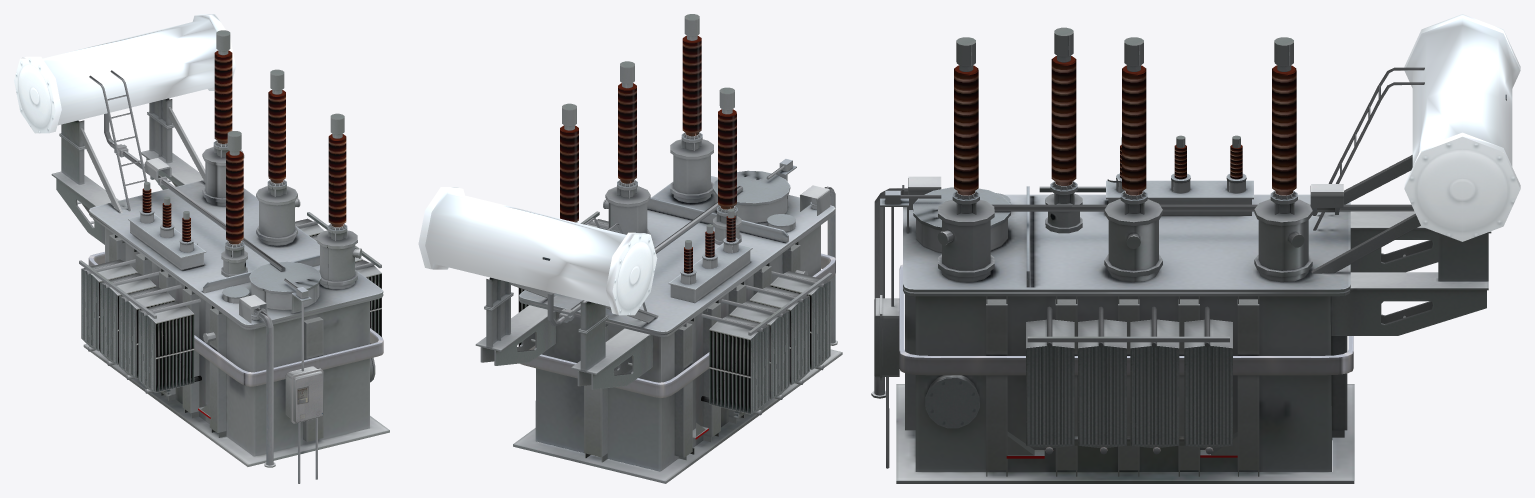
Rendered from 8. 变压器.glb.
3 views of the same model, side by side, from view 1: azimuth 30°, elevation 25°; view 2: azimuth 150°, elevation 25°; view 3: azimuth 270°, elevation 25° (orthographic). The views are drawn at different scales.
Size of the model in its own units: 3.85 by 5.37 by 6.87.
3 materials, 3 textured.
